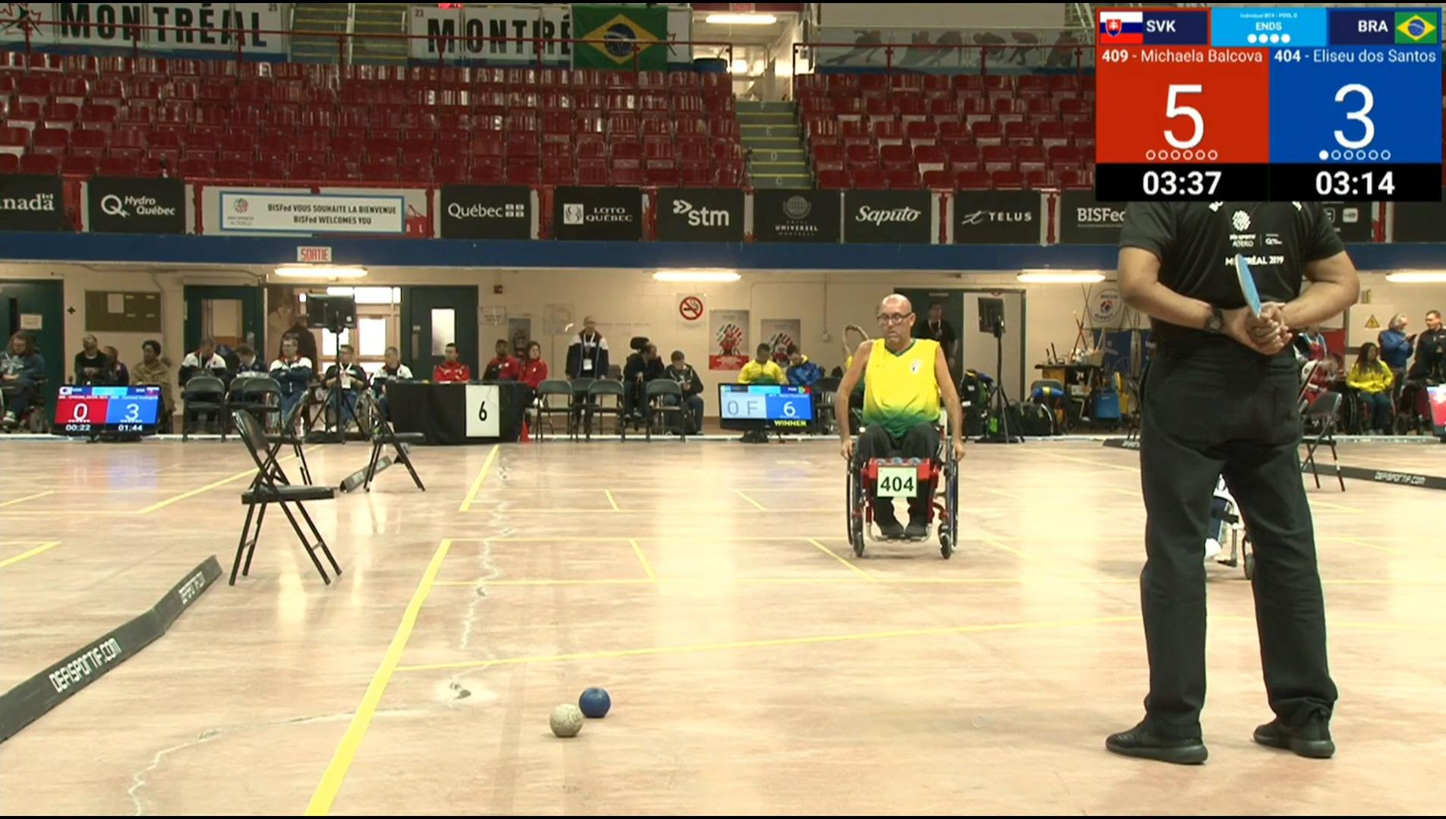blue_ball: (577, 687, 613, 720)
white_ball: (550, 702, 585, 738)
